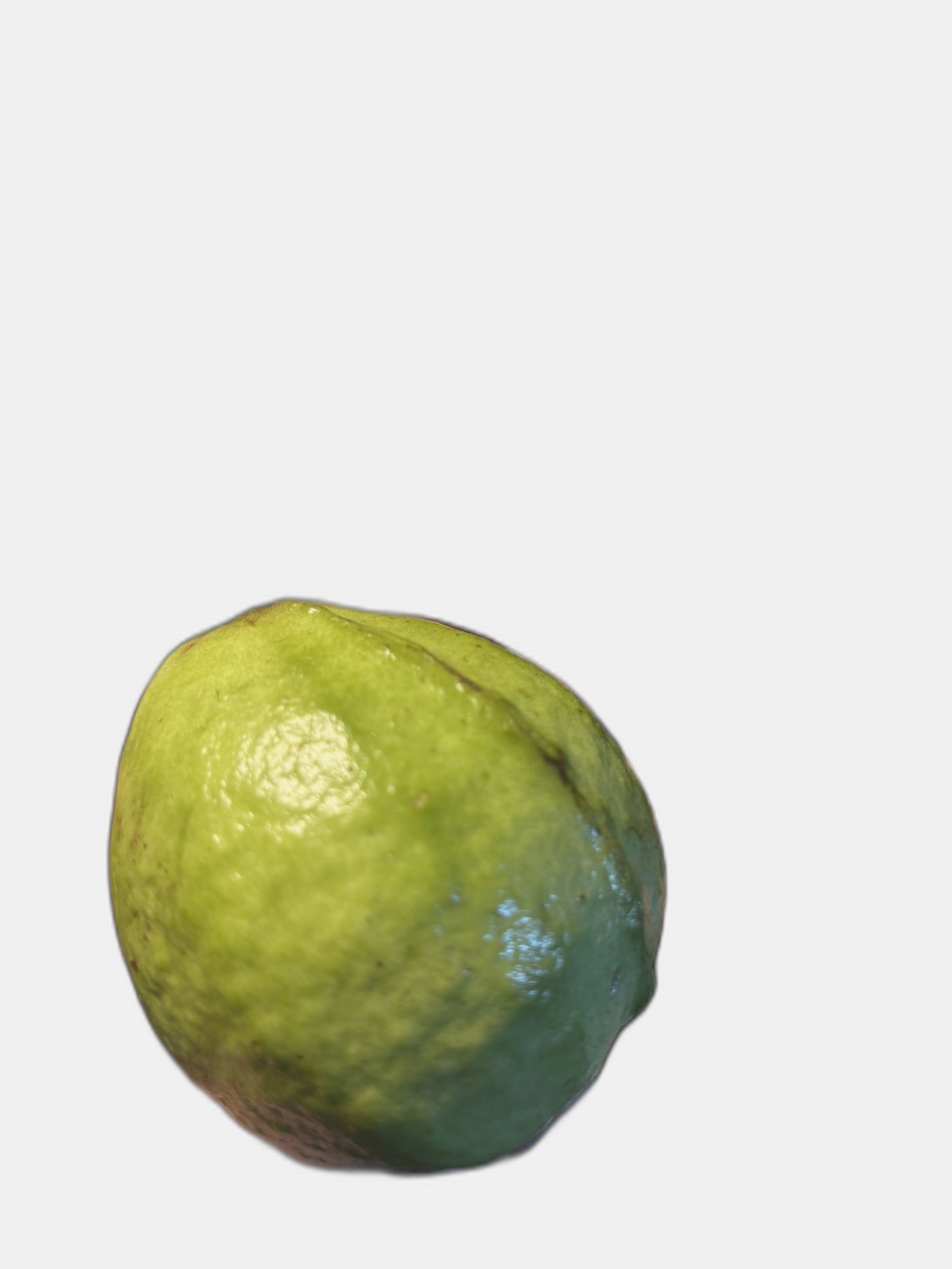guava: (150, 89, 910, 960)
